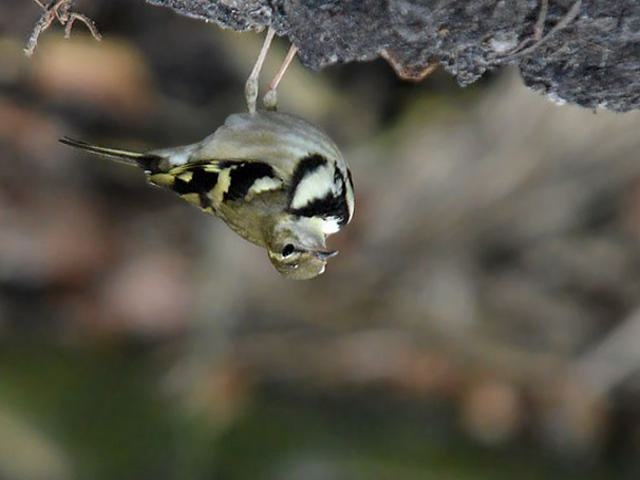wagtail: (102, 74, 364, 282)
